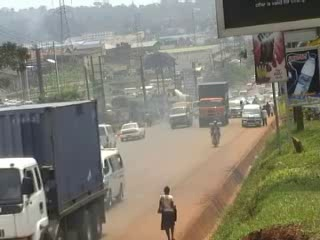Car: (118, 119, 148, 141)
Motorcycle: (207, 118, 222, 150)
